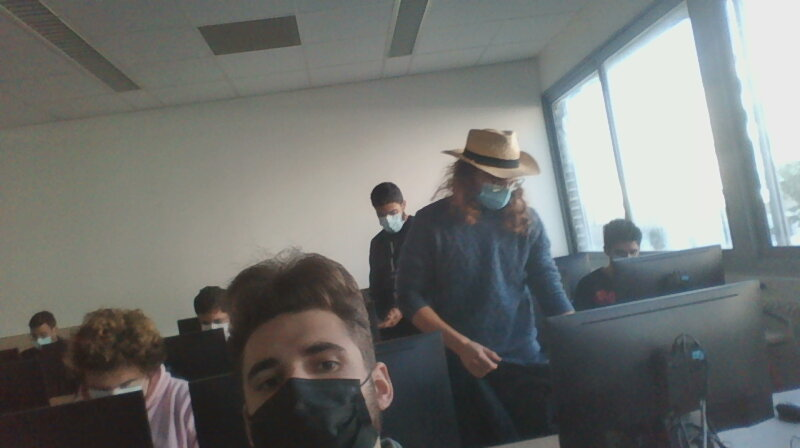with_mask: (236, 327, 385, 448), (463, 162, 525, 212), (372, 192, 419, 241)
